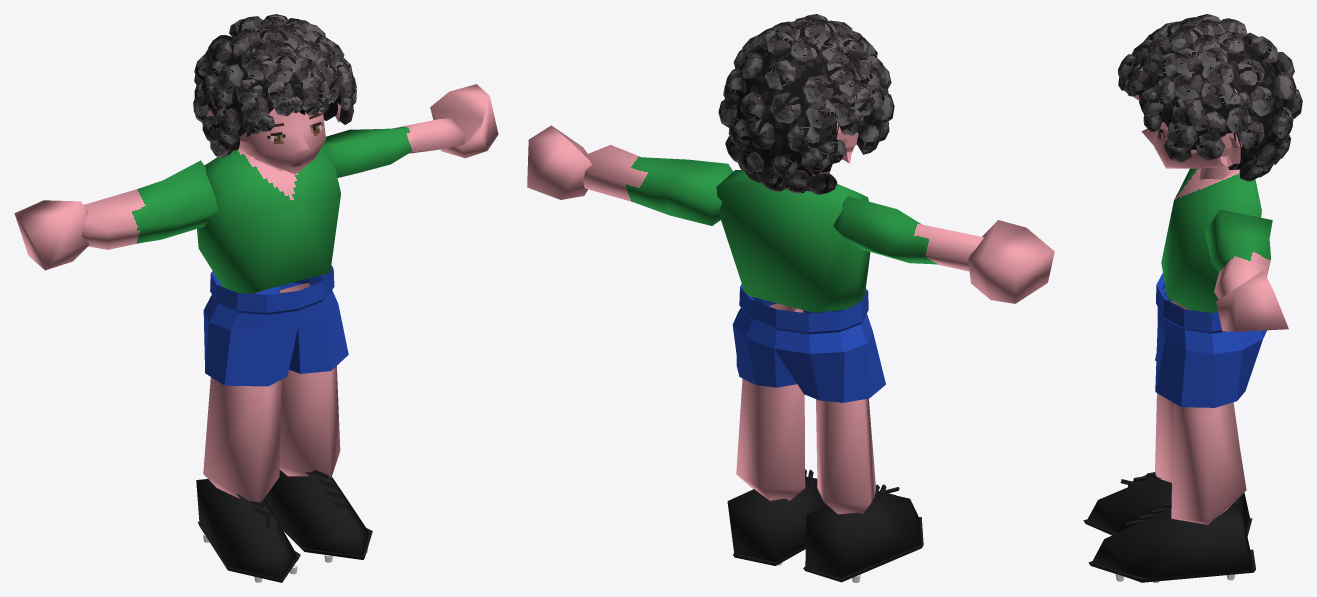
File: 04-cacheado-curto_preto.glb
3 views of the same model, side by side, from view 1: azimuth 30°, elevation 25°; view 2: azimuth 150°, elevation 25°; view 3: azimuth 270°, elevation 25° (orthographic). The views are drawn at different scales.
Visible parts, largest first — view 1: Camisa_Tronco, Cabelo, Bermuda, Perna.R, Braco.R, Perna.L, Chuteira.R, Chuteira.L, Braco.L, Mao.R, Cabeca, Mao.L (+1 smaller); view 2: Cabelo, Camisa_Tronco, Bermuda, Perna.L, Braco.L, Chuteira.R, Perna.R, Braco.R, Mao.R, Chuteira.L, Mao.L, Chuteira_Sola.R; view 3: Cabelo, Bermuda, Chuteira.L, Camisa_Tronco, Perna.L, Braco.L, Mao.L, Chuteira.R, Perna.R, Cabeca, Chuteira_Sola.L, Couro_Cabeludo (+3 smaller).
Boxes of the visible parts, box(x1,y1,x2,y2) form: Camisa_Tronco: box(197, 145, 340, 293); Cabelo: box(193, 14, 356, 157); Bermuda: box(203, 265, 348, 386); Perna.R: box(203, 377, 281, 506); Braco.R: box(81, 160, 218, 249); Perna.L: box(279, 282, 340, 477); Chuteira.R: box(196, 479, 298, 579); Chuteira.L: box(264, 470, 368, 556); Braco.L: box(322, 118, 465, 177); Mao.R: box(14, 200, 89, 270); Cabeca: box(239, 111, 325, 174); Mao.L: box(430, 84, 498, 158); Cabelo: box(718, 14, 894, 194); Camisa_Tronco: box(716, 170, 870, 312); Bermuda: box(732, 284, 885, 402); Perna.L: box(736, 303, 805, 500); Braco.L: box(583, 145, 733, 225); Chuteira.R: box(805, 491, 921, 578); Perna.R: box(816, 398, 875, 514); Braco.R: box(832, 196, 983, 271); Mao.R: box(968, 220, 1054, 303); Chuteira.L: box(727, 476, 826, 562); Mao.L: box(527, 125, 591, 199); Chuteira_Sola.R: box(803, 517, 923, 582); Cabelo: box(1118, 14, 1302, 181); Bermuda: box(1155, 273, 1266, 407); Chuteira.L: box(1092, 504, 1252, 582); Camisa_Tronco: box(1161, 168, 1261, 312); Perna.L: box(1171, 402, 1246, 524); Braco.L: box(1205, 209, 1272, 299); Mao.L: box(1216, 270, 1288, 331); Chuteira.R: box(1087, 475, 1249, 533); Perna.R: box(1155, 300, 1239, 482); Cabeca: box(1141, 128, 1228, 168); Chuteira_Sola.L: box(1088, 549, 1255, 582); Couro_Cabeludo: box(1133, 88, 1242, 169).
Bounding box in the file's own units: 0.4523 × 0.4644 × 0.1726.
Materials: 3 (3 with a texture image).
